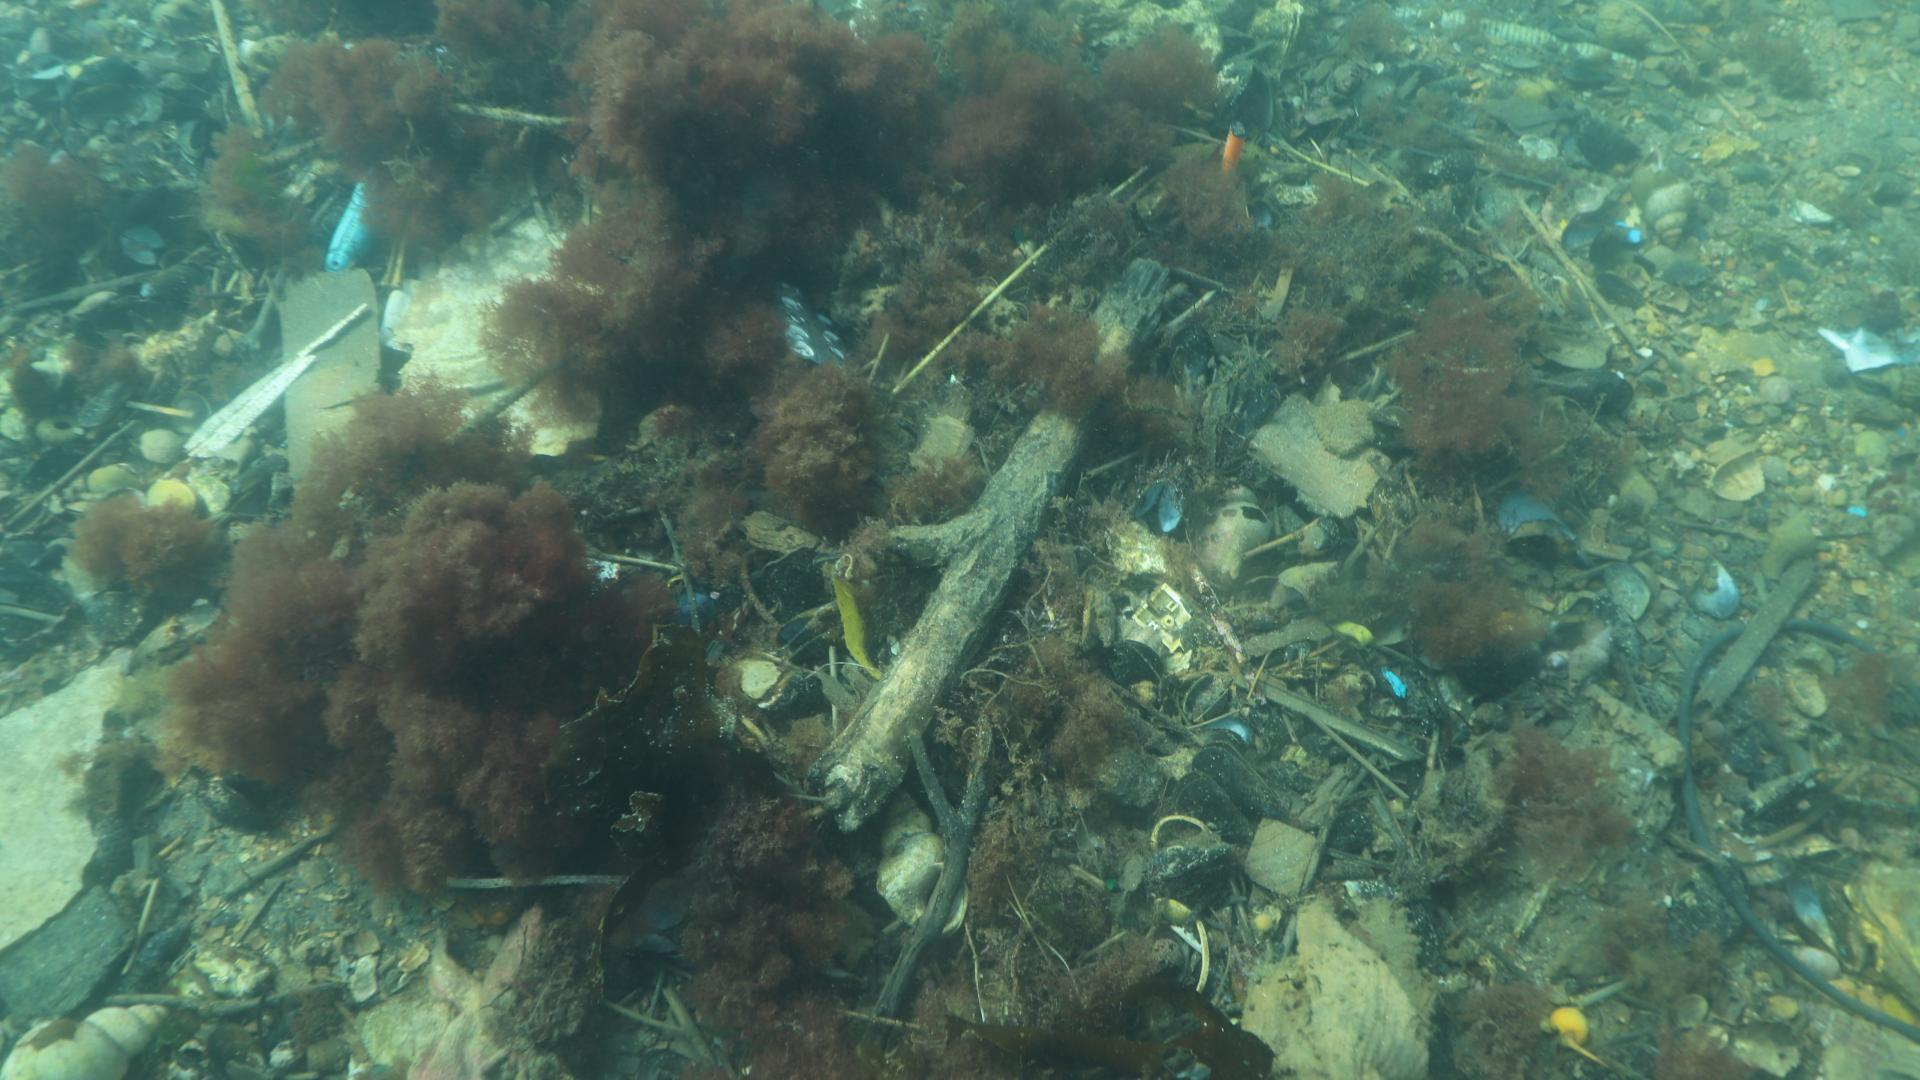wood: (803, 255, 1174, 831)
